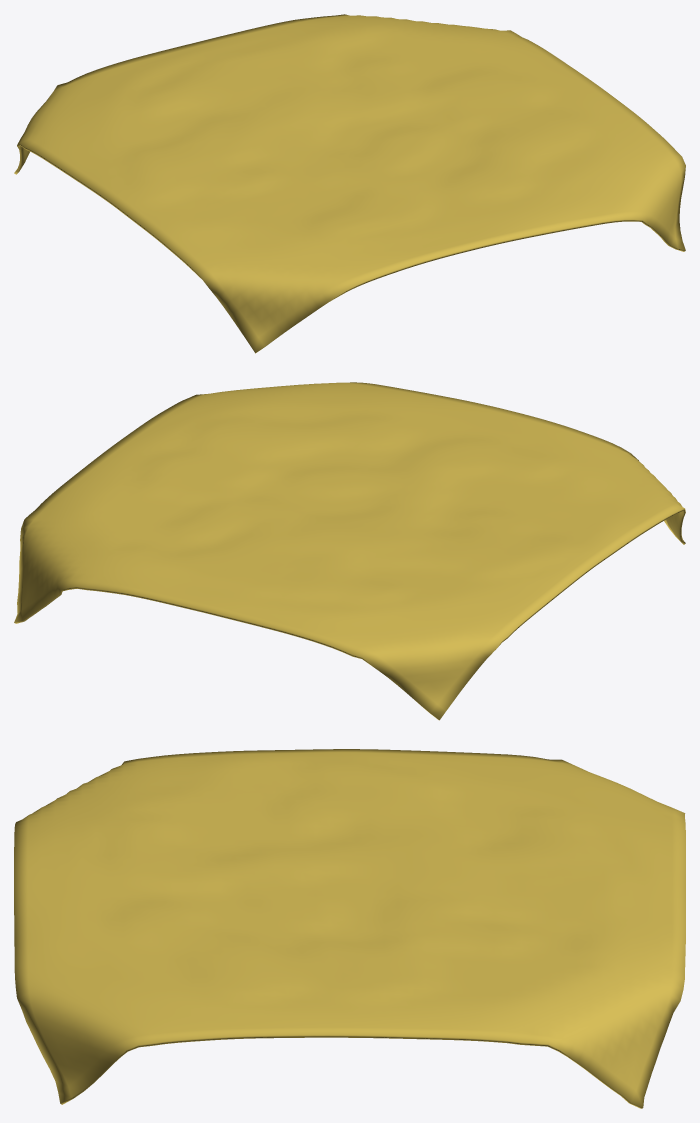
The model's file is cheseslice.fbx.
3 views of the same model, one above another, from view 1: azimuth 30°, elevation 25°; view 2: azimuth 150°, elevation 25°; view 3: azimuth 270°, elevation 25° (orthographic). The views are drawn at different scales.
Visible parts, largest first — view 1: Plane.001; view 2: Plane.001; view 3: Plane.001.
Boxes of the visible parts, x1,y1,x2,y2 form: Plane.001: (14,14,685,353); Plane.001: (14,382,685,720); Plane.001: (14,749,685,1108).
Size of the model in its own units: 86.98 by 14.38 by 87.
